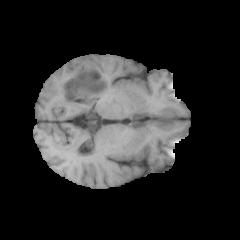glioma: (58, 65, 111, 103)
